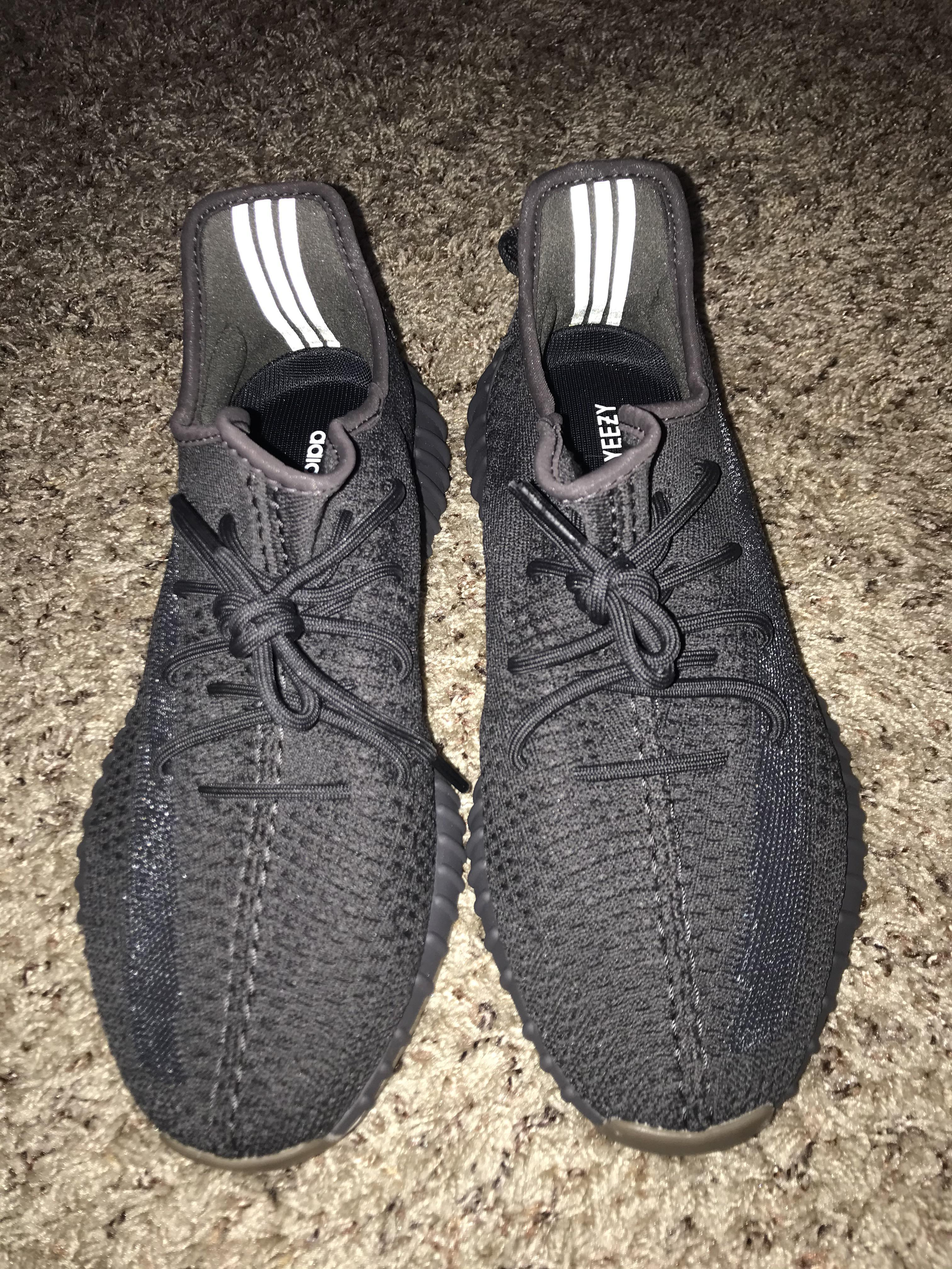sneaker: (467, 157, 872, 1168), (75, 173, 460, 1179)
